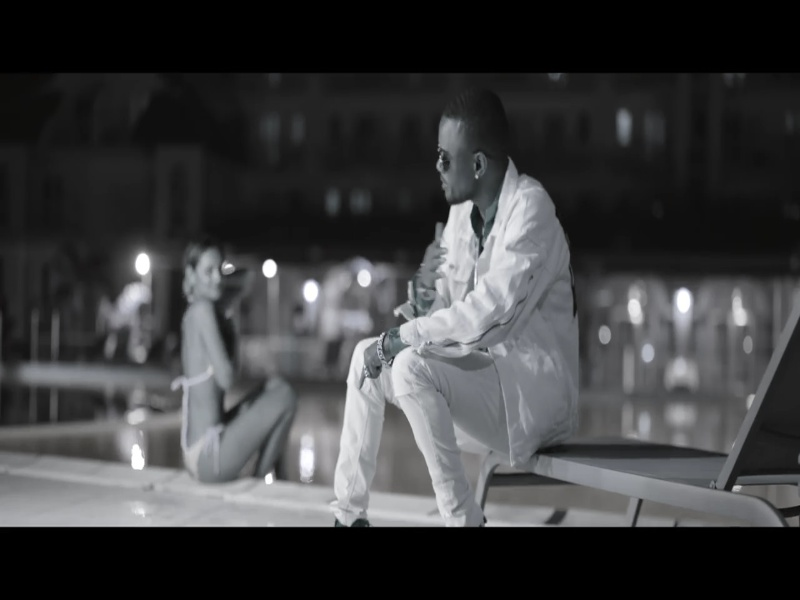TsisyArotava: (426, 101, 514, 218)
